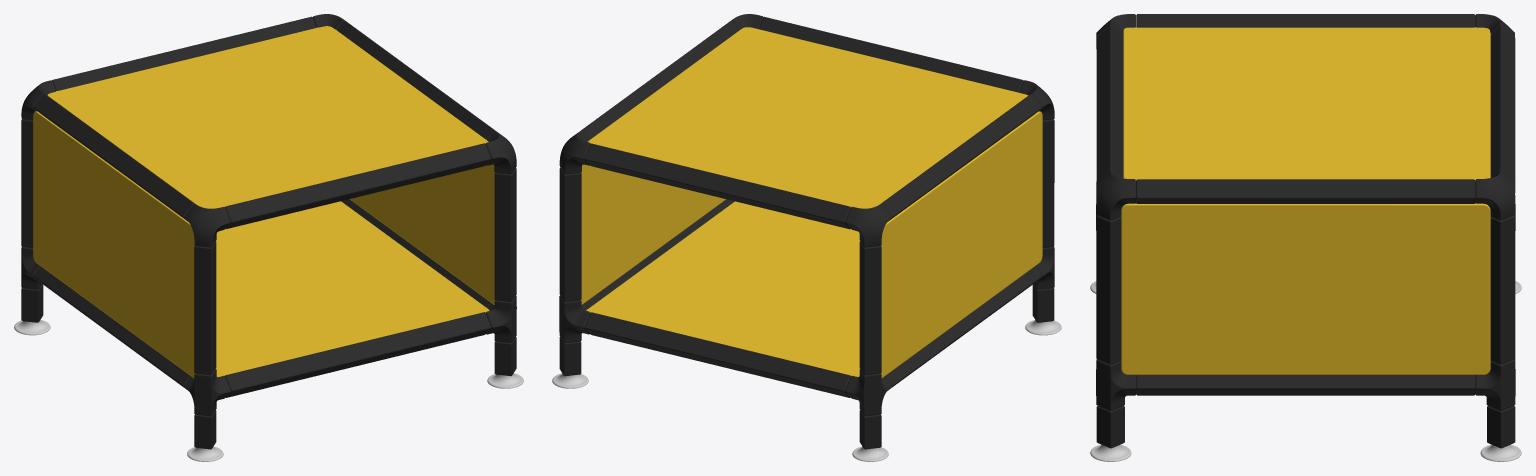
3 views of the same model, side by side, from view 1: azimuth 30°, elevation 25°; view 2: azimuth 150°, elevation 25°; view 3: azimuth 270°, elevation 25° (orthographic). The views are drawn at different scales.
Visible parts, largest first — view 1: 329x329x154; view 2: 329x329x154; view 3: 329x329x154.
Part boxes in pixels (bbox=[...]): 329x329x154: bbox=[14, 14, 523, 461]; 329x329x154: bbox=[552, 14, 1061, 461]; 329x329x154: bbox=[1090, 14, 1521, 461].
Bounding box in the file's own units: 0.4189 × 0.2933 × 0.4182.
